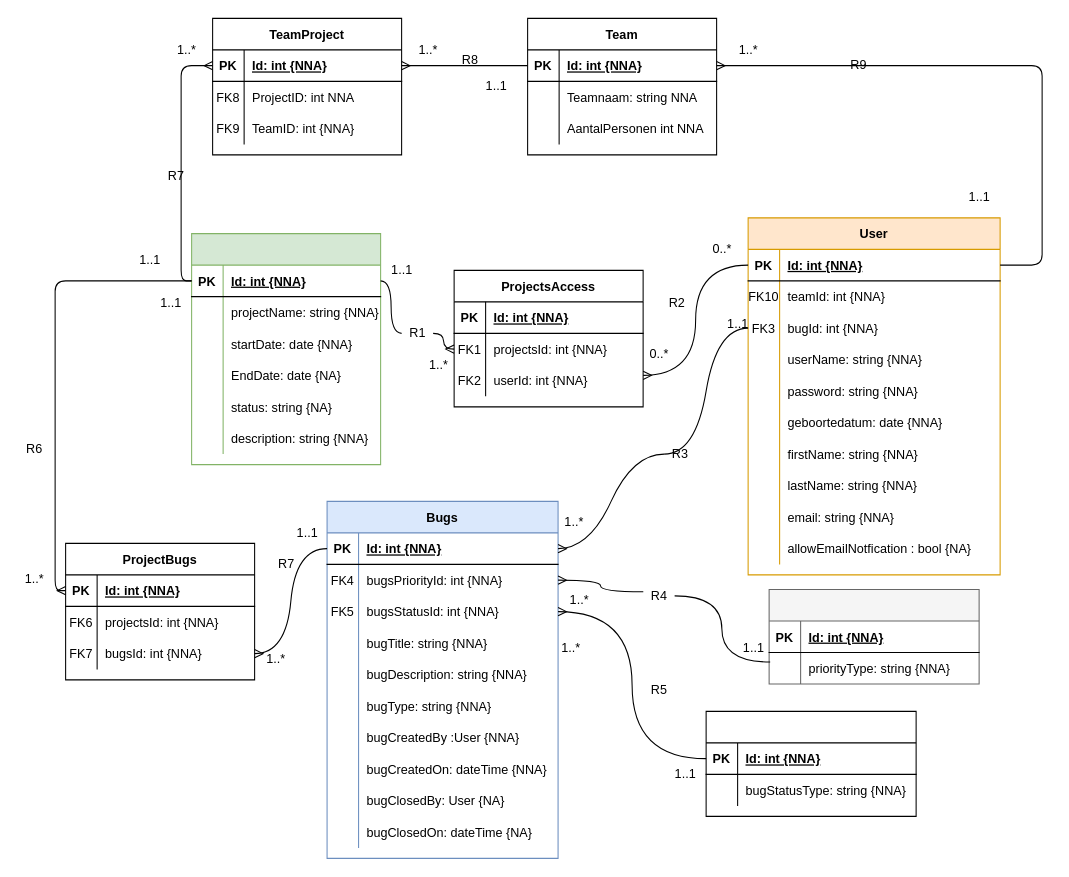
This 1069x877 diagram has some shape labels left out. The shapes that lost their labels are listed below. From the top down, each one's box as (x1, y1, x2, y2) in pixels, then its label:
(191, 233, 381, 465): Projects
(768, 589, 979, 684): BugsPriority
(705, 710, 916, 816): BugsStatus
